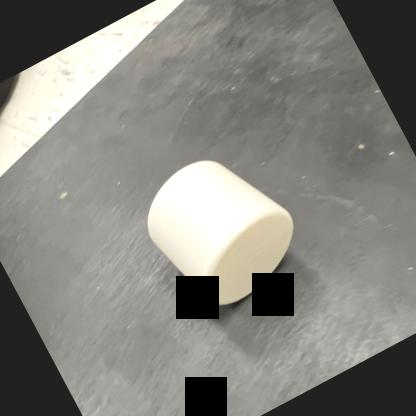white cylinder: (126, 131, 317, 326)
